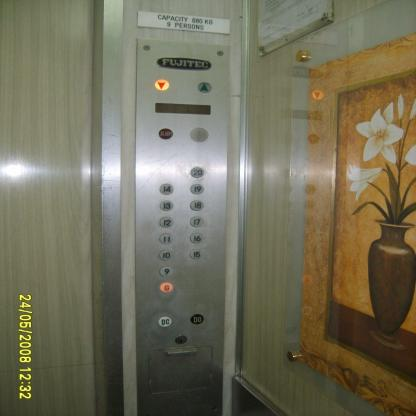10: (158, 249, 174, 261)
11: (158, 233, 174, 245)
12: (158, 217, 174, 228)
13: (158, 200, 174, 211)
14: (158, 183, 174, 195)
15: (188, 248, 204, 260)
16: (188, 233, 204, 244)
17: (189, 216, 205, 227)
18: (189, 200, 205, 211)
19: (190, 183, 206, 195)
20: (190, 166, 206, 178)
9: (158, 266, 174, 277)
D0: (190, 313, 204, 324)
DC: (158, 316, 172, 328)
G: (158, 281, 174, 293)
down: (154, 78, 169, 90)
empty: (189, 126, 209, 143)
keyhole: (174, 334, 188, 345)
text_alarm bell: (158, 128, 173, 139)
up: (196, 82, 212, 94)
